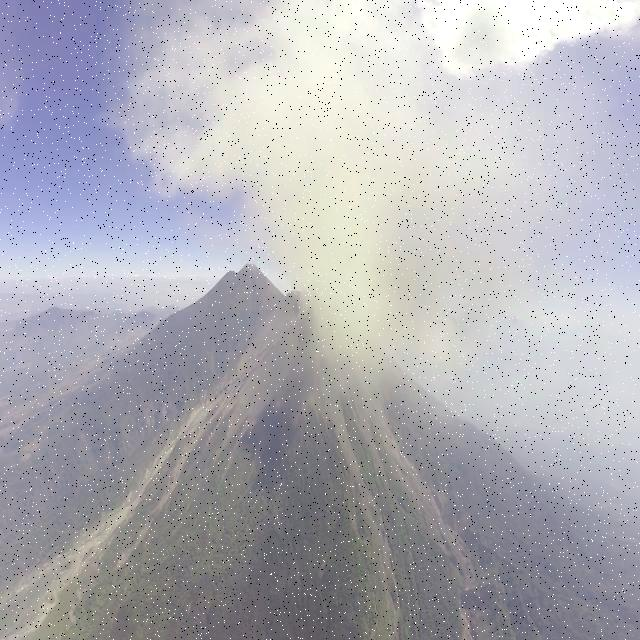Plume: (107, 6, 572, 388), (415, 0, 640, 89)
